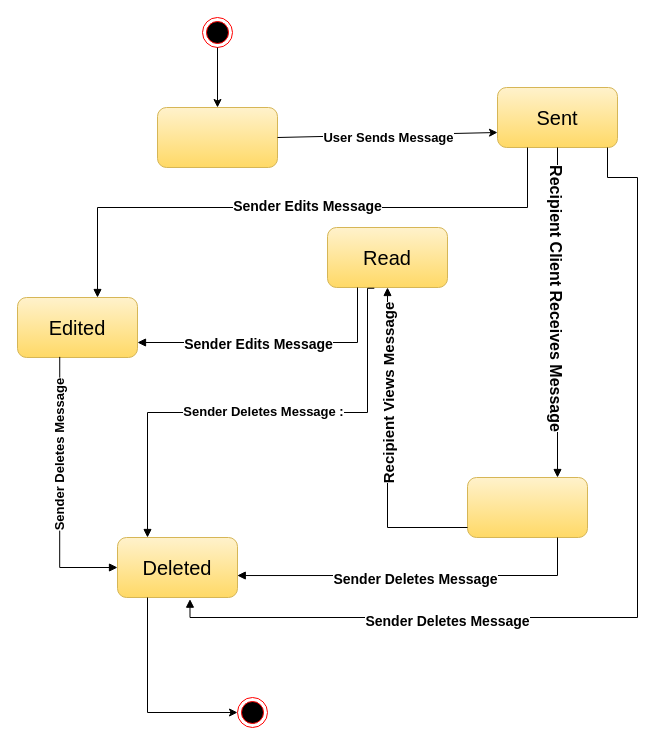
The diagram is 663 pixels wide and 745 high, and some of its shapes have lost their labels. The centre of each missing label's shape, as x and y in pixels:
"Delivered" belongs at point 527,507.
"Draft" belongs at point 217,137.
